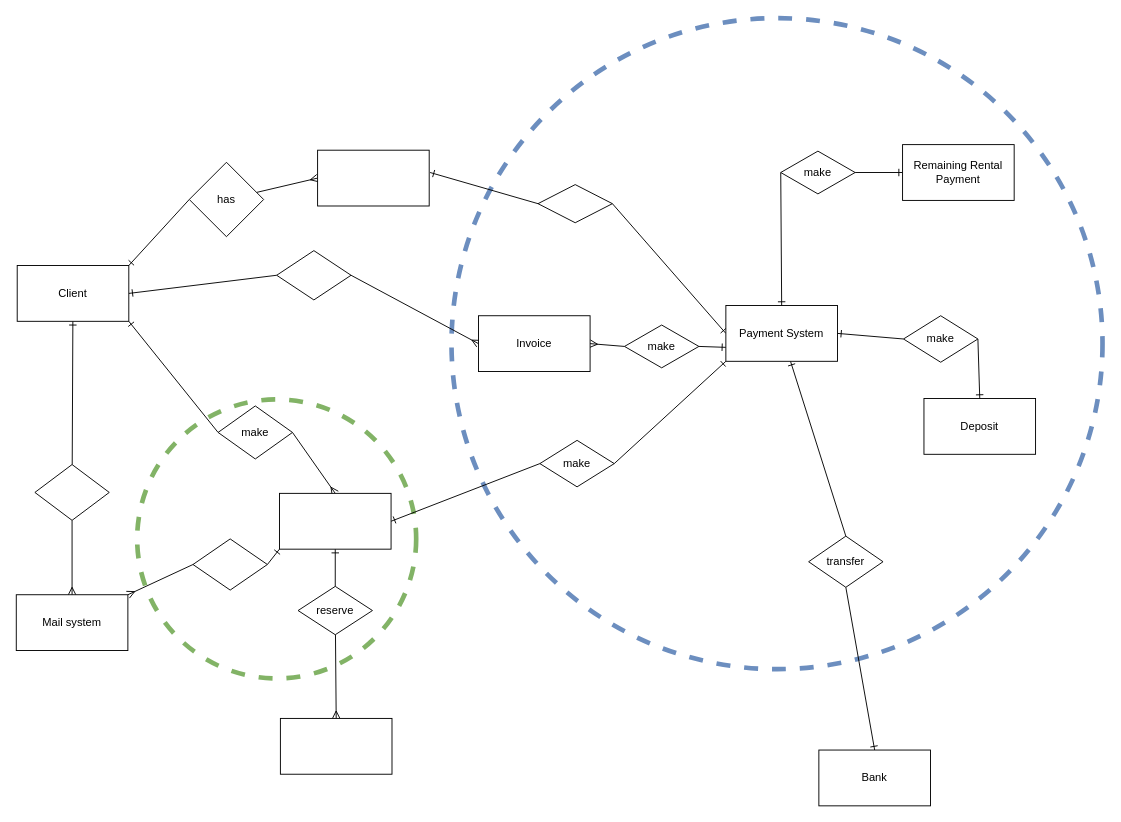
The diagram is 1121 pixels wide and 822 high, and some of its shapes have lost their labels. Here are the shapes that lost their labels. From the top down, the centre of each, then its label:
pixel 373 177: Insurance
pixel 574 203: include
pixel 313 275: get
pixel 71 492: receive
pixel 335 520: Booking System
pixel 229 564: send
pixel 335 745: Camper
